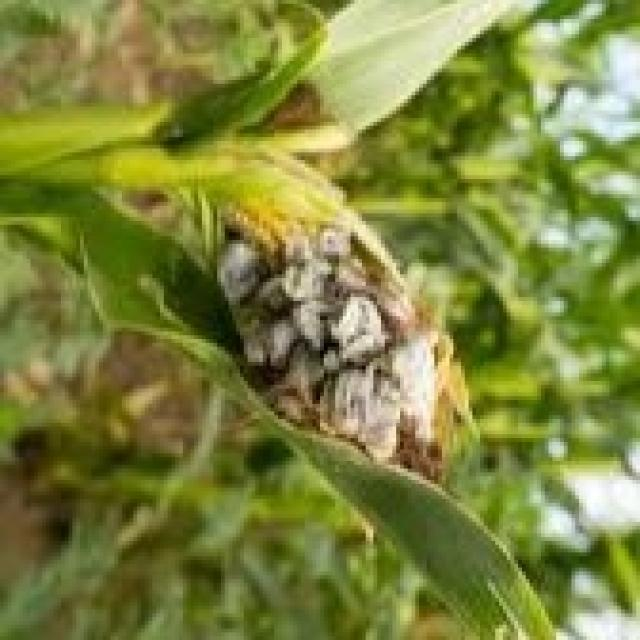Leaf_Scald: (116, 147, 544, 497)
